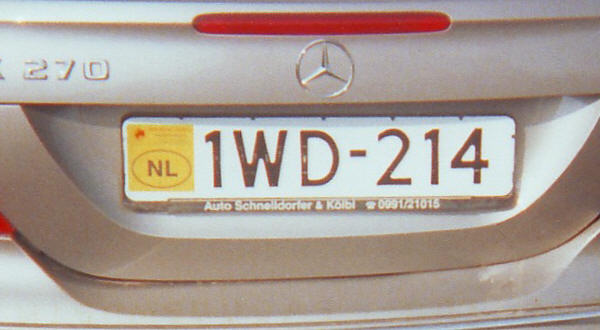license_plate: (121, 113, 517, 198)
